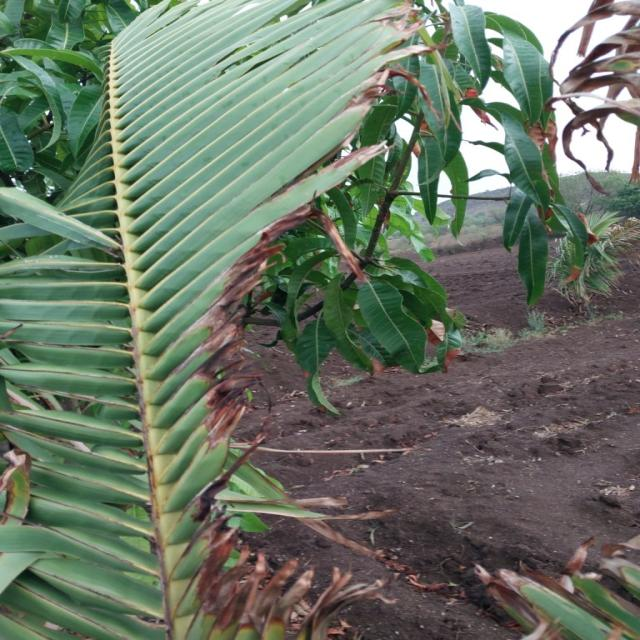leaf rot: (147, 7, 444, 640), (462, 539, 639, 640)
